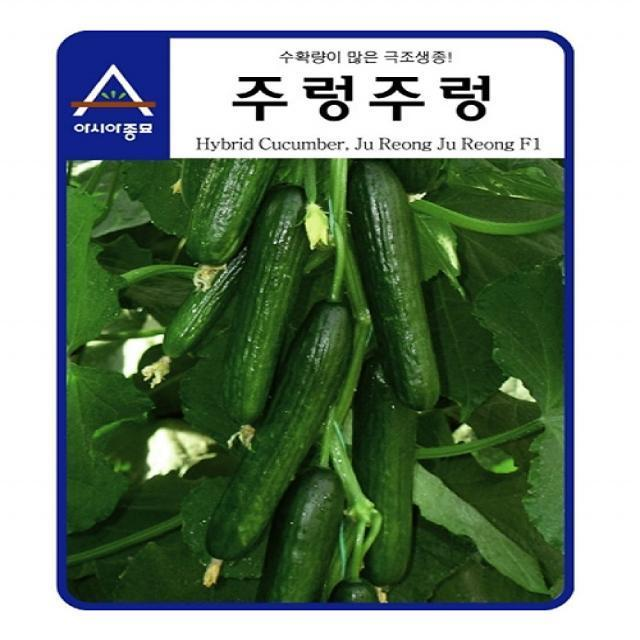cucumber: (97, 164, 490, 606), (192, 176, 354, 469), (340, 167, 516, 434), (224, 300, 340, 582)
